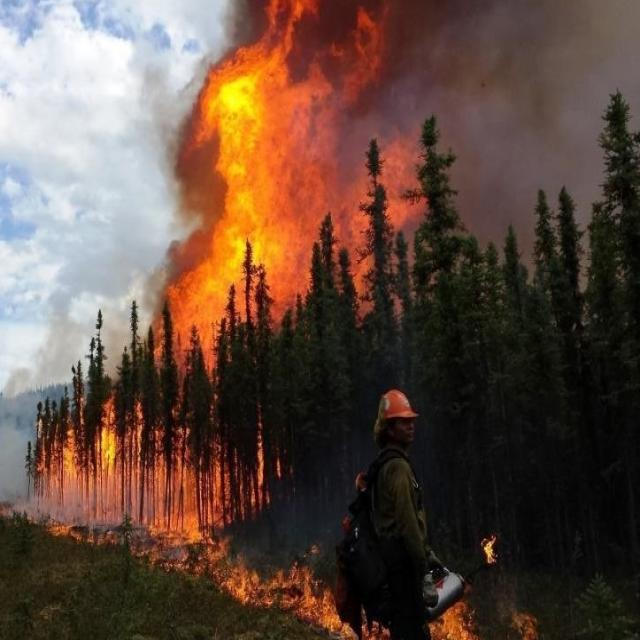Fire: (28, 0, 478, 640)
Smoke: (462, 0, 640, 249)
